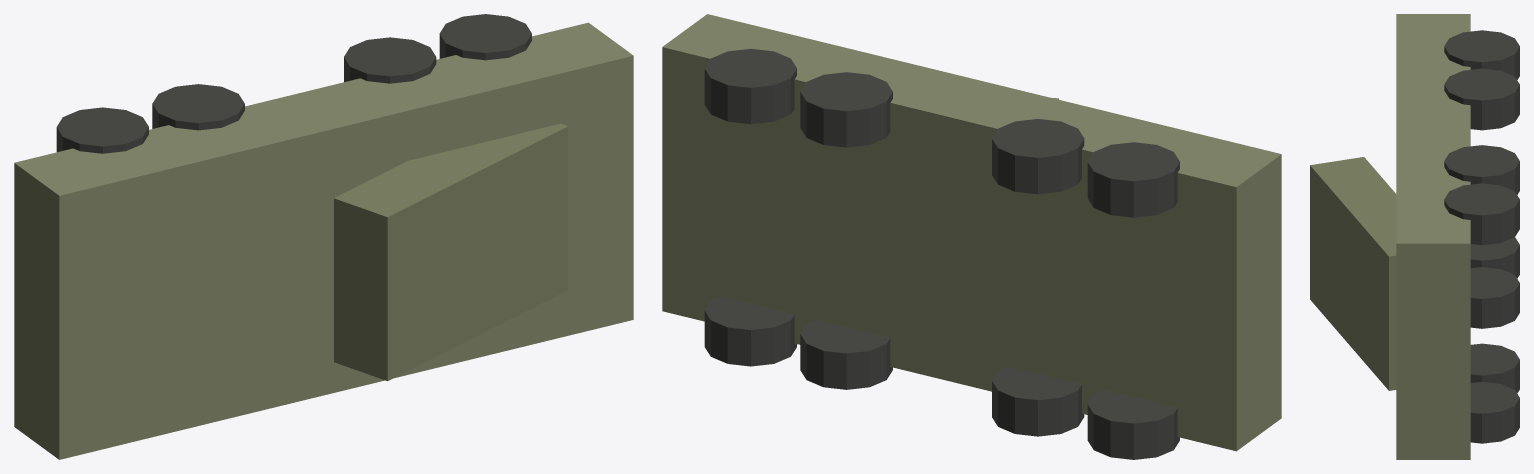
The model's file is rocket.glb.
The picture shows the model from 3 angles, left to right: view 1: azimuth 30°, elevation 25°; view 2: azimuth 150°, elevation 25°; view 3: azimuth 270°, elevation 25°; orthographic projection. The views are drawn at different scales.
Parts seen in each view (by area): view 1: geometry_0; view 2: geometry_0; view 3: geometry_0.
Part boxes in pixels (left/top/right/bottom): geometry_0: left=14, top=14, right=633, bottom=459; geometry_0: left=662, top=14, right=1281, bottom=459; geometry_0: left=1310, top=14, right=1519, bottom=459.
Size of the model in its own units: 6.6 by 3.06 by 2.55.
